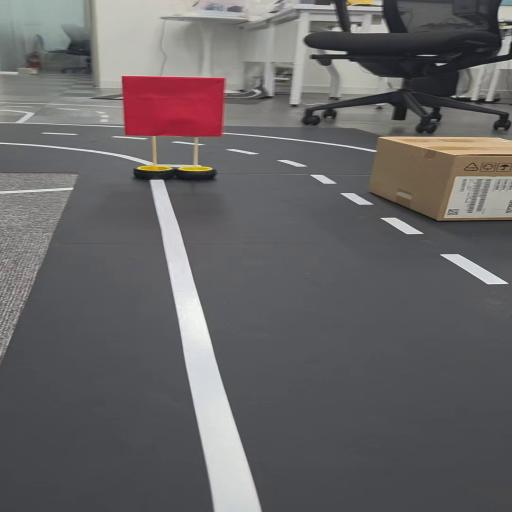Box: (363, 136, 512, 228)
Sign_A: (117, 75, 233, 182)
